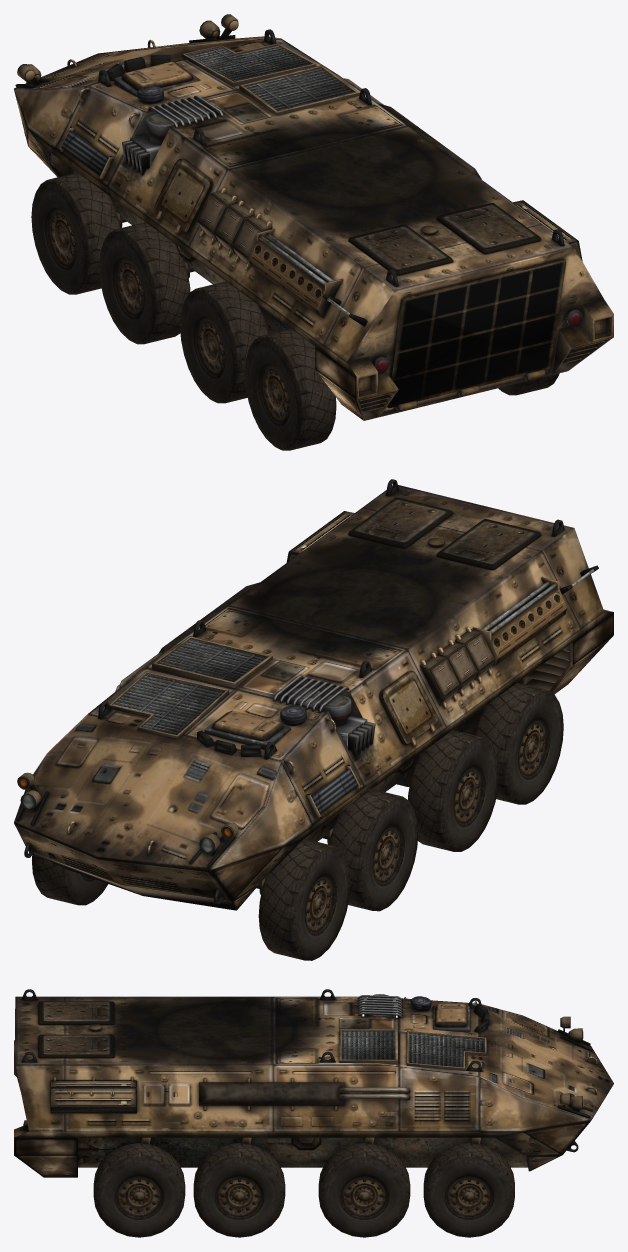
File: APC_hull.obj
The picture shows the model from 3 angles, top to bottom: view 1: azimuth 30°, elevation 25°; view 2: azimuth 150°, elevation 25°; view 3: azimuth 270°, elevation 25°; orthographic projection. The views are drawn at different scales.
Parts seen in each view (by area): view 1: hull01, wheel02, wheel04, wheel01, wheel03, wheel08; view 2: hull01, wheel01, wheel03, wheel02, wheel04, wheel05; view 3: hull01, wheel08, wheel07, wheel06, wheel05.
Part boxes in pixels (bbox=[...]): hull01: bbox=[14, 14, 613, 420]; wheel02: bbox=[99, 222, 190, 344]; wheel04: bbox=[244, 328, 336, 450]; wheel01: bbox=[31, 172, 120, 294]; wheel03: bbox=[180, 281, 268, 403]; wheel08: bbox=[498, 373, 559, 395]; hull01: bbox=[14, 479, 613, 910]; wheel01: bbox=[258, 838, 350, 960]; wheel03: bbox=[408, 730, 498, 851]; wheel02: bbox=[329, 789, 418, 911]; wheel04: bbox=[475, 682, 563, 804]; wheel05: bbox=[32, 853, 108, 905]; hull01: bbox=[14, 989, 613, 1177]; wheel08: bbox=[93, 1143, 185, 1237]; wheel07: bbox=[193, 1143, 285, 1237]; wheel06: bbox=[318, 1143, 410, 1237]; wheel05: bbox=[423, 1143, 514, 1237].
Size of the model in its own units: 6.49 by 5.11 by 16.57.
Materials: 5 (5 with a texture image).
